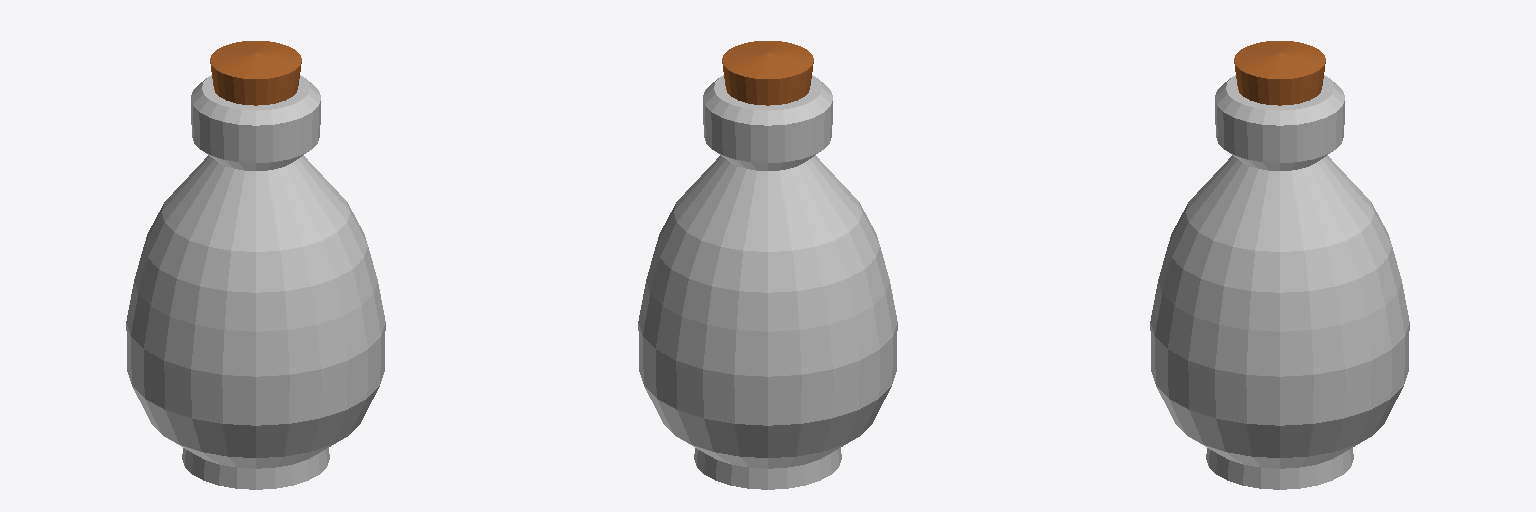
The model's file is potionSmall_blue.obj.
3 renders of one model, left to right at view 1: azimuth 30°, elevation 25°; view 2: azimuth 150°, elevation 25°; view 3: azimuth 270°, elevation 25°, orthographic.
Visible parts, largest first — view 1: potionSmall_blue_Cylinder.171; view 2: potionSmall_blue_Cylinder.171; view 3: potionSmall_blue_Cylinder.171.
Boxes of the visible parts, box(x1,y1,x2,y2) form: potionSmall_blue_Cylinder.171: box(126, 41, 385, 489); potionSmall_blue_Cylinder.171: box(638, 41, 897, 489); potionSmall_blue_Cylinder.171: box(1150, 41, 1409, 489).
Size of the model in its own units: 0.5001 by 0.8622 by 0.5001.